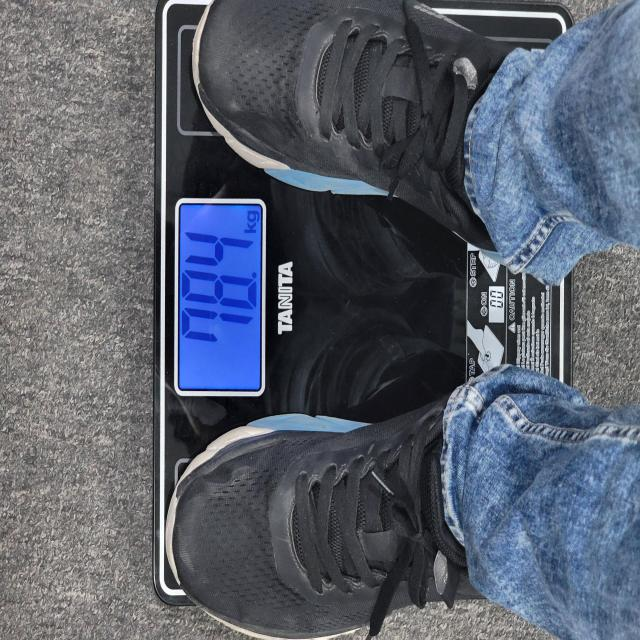ws: (175, 199, 266, 400)
